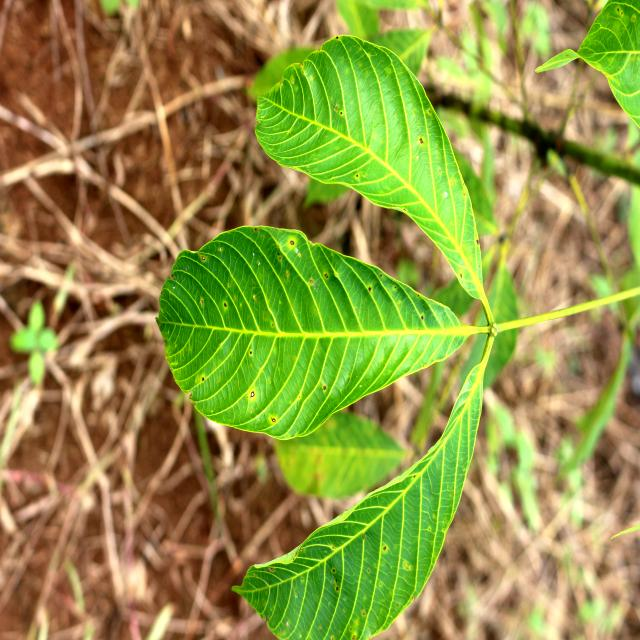Colletotrichum: (250, 391, 254, 397), (419, 138, 423, 144), (290, 240, 294, 244), (202, 256, 206, 260), (272, 418, 275, 422), (325, 274, 328, 278), (368, 287, 371, 291), (202, 377, 204, 381), (250, 352, 252, 354)
